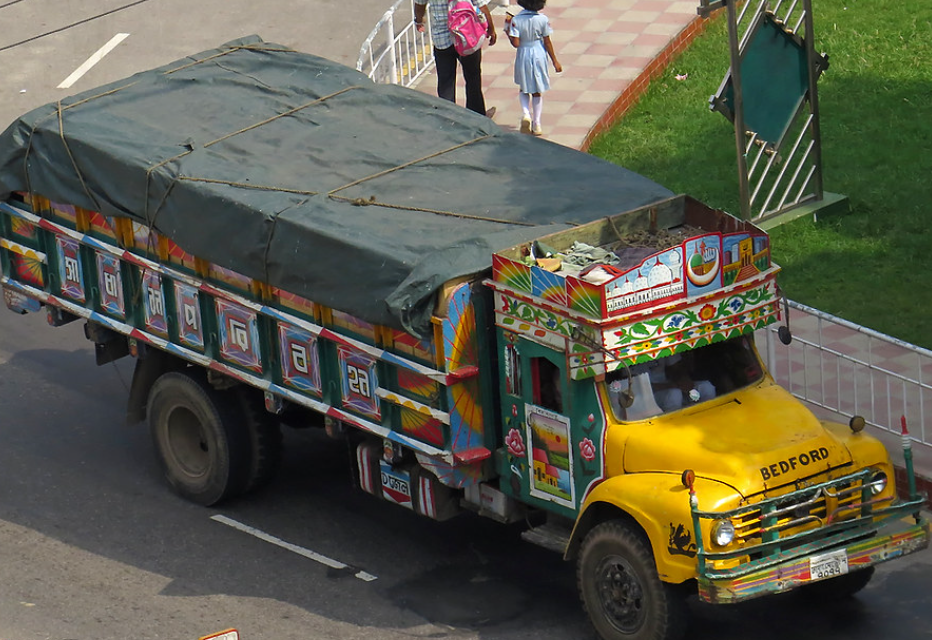Truck: (3, 17, 931, 633)
